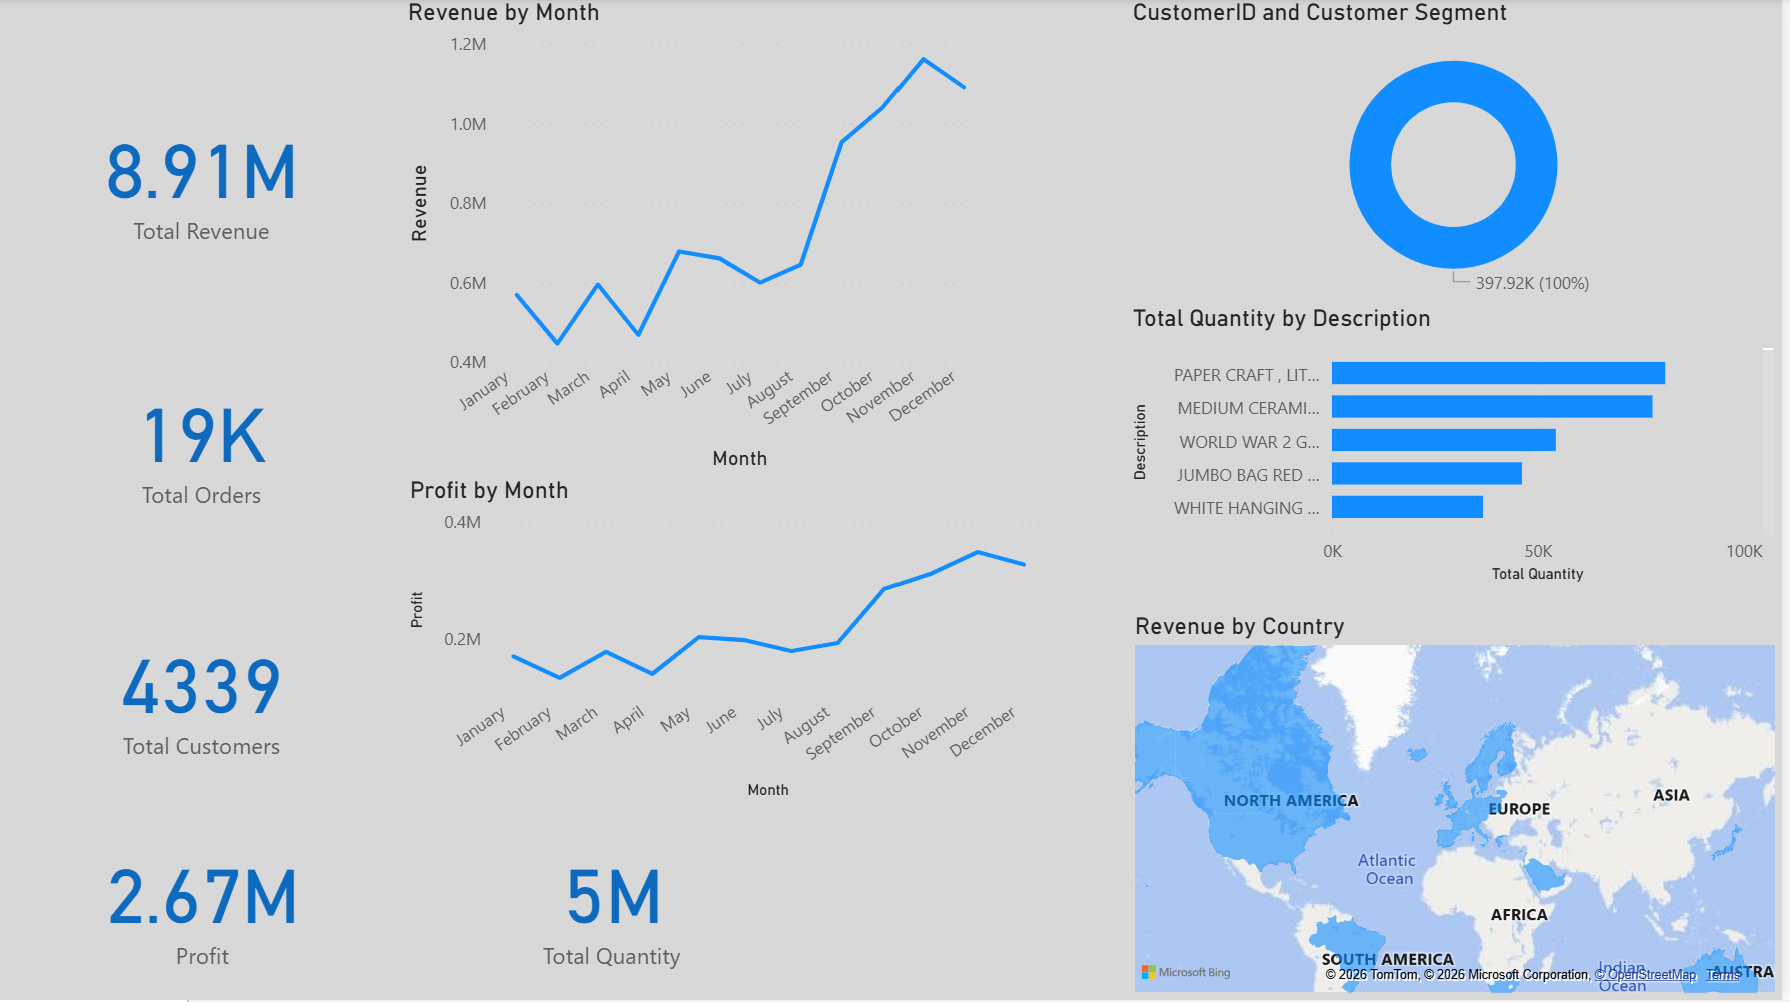

The dashboard page shown, as its layout file describes it:
{"tool":"powerbi","page":{"name":"Data Platform Dashborad","canvas":[1280,720],"ordinal":0},"visuals":[{"type":"lineChart","fields":{"Y":["Sum(cleaned_data.Revenue)"],"Category":["cleaned_data.InvoiceDate.Variation.Date Hierarchy.Month"]},"box":[288.7,0,420.6,343.3],"z":0},{"type":"filledMap","fields":{"Category":["cleaned_data.Country"]},"box":[810.3,440.8,469.7,278.3],"z":1000},{"type":"card","fields":{"Values":["cleaned_data.Total Quantity"]},"box":[291,577.5,300.1,143.2],"z":2000},{"type":"card","fields":{"Values":["cleaned_data.Total Revenue"]},"box":[0,0,291,256.9],"z":3000},{"type":"card","fields":{"Values":["cleaned_data.Total Order"]},"box":[0,184.2,291,268.3],"z":4000},{"type":"card","fields":{"Values":["cleaned_data.Total Customers"]},"box":[0,377.4,291,241],"z":5000},{"type":"card","fields":{"Values":["cleaned_data.Profit"]},"box":[29.6,577.5,231.9,143.2],"z":6000},{"type":"lineChart","fields":{"Category":["cleaned_data.InvoiceDate.Variation.Date Hierarchy.Month"],"Y":["cleaned_data.Profit"]},"box":[291,343.3,463.8,236.4],"z":7000},{"type":"donutChart","fields":{"Y":["CountNonNull(cleaned_data.CustomerID)"]},"box":[809.4,0,470.6,220.5],"z":8000},{"type":"barChart","fields":{"Category":["cleaned_data.Description"],"Y":["cleaned_data.Total Quantity"]},"box":[809.4,220.5,470.6,204.6],"z":9000}]}

Visuals, with their boxes in screenshot pixels (x1, y1, x2, y2), scaled from the page's 1280x720 canvas onto the 1790x1002 screenshot:
lineChart - Sum(cleaned_data.Revenue) x cleaned_data.InvoiceDate.Variation.Date Hierarchy.Month: 404, 0, 992, 478
filledMap - cleaned_data.Country: 1133, 613, 1789, 1001
card - cleaned_data.Total Quantity: 407, 804, 827, 1001
card - cleaned_data.Total Revenue: 0, 0, 407, 358
card - cleaned_data.Total Order: 0, 256, 407, 630
card - cleaned_data.Total Customers: 0, 525, 407, 861
card - cleaned_data.Profit: 41, 804, 366, 1001
lineChart - cleaned_data.InvoiceDate.Variation.Date Hierarchy.Month x cleaned_data.Profit: 407, 478, 1056, 807
donutChart - CountNonNull(cleaned_data.CustomerID): 1132, 0, 1789, 307
barChart - cleaned_data.Description x cleaned_data.Total Quantity: 1132, 307, 1789, 592
